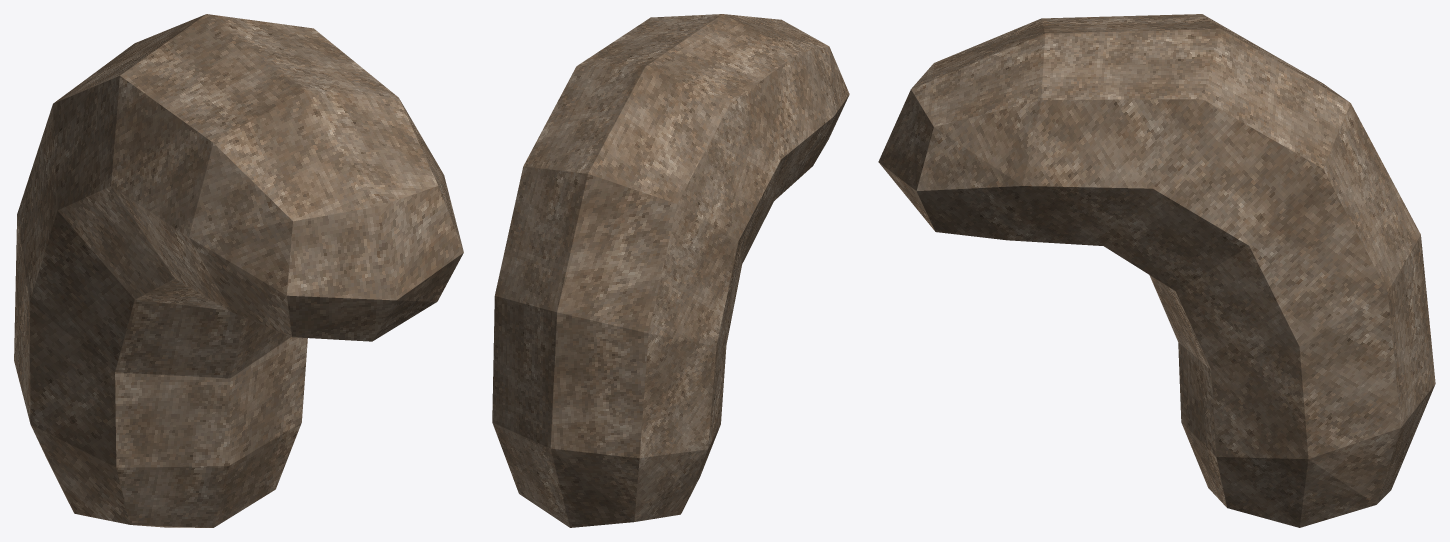
Rendered from worm.obj.
3 views of the same model, side by side, from view 1: azimuth 30°, elevation 25°; view 2: azimuth 150°, elevation 25°; view 3: azimuth 270°, elevation 25° (orthographic). The views are drawn at different scales.
Parts seen in each view (by area): view 1: Cube; view 2: Cube; view 3: Cube.
Part boxes in pixels (x1=…): Cube: x1=14, y1=14, x2=463, y2=527; Cube: x1=492, y1=14, x2=849, y2=527; Cube: x1=878, y1=14, x2=1435, y2=527.
Bounding box in the file's own units: 1.83 × 3.58 × 3.68.
